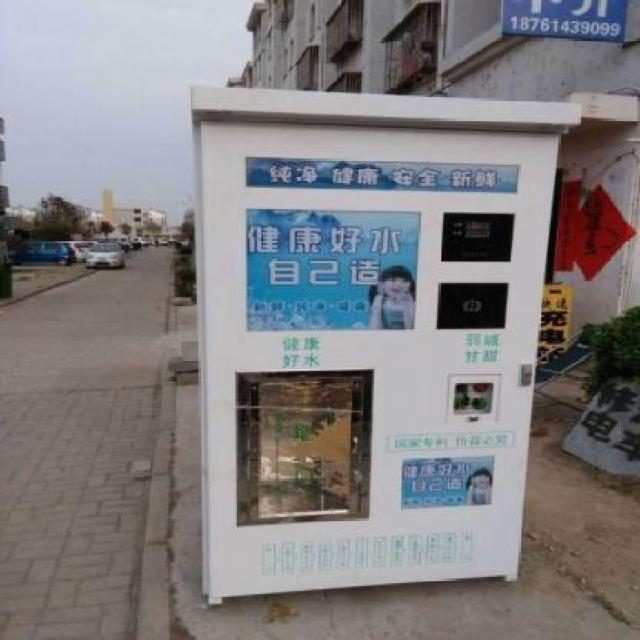cooler: (188, 82, 588, 606)
